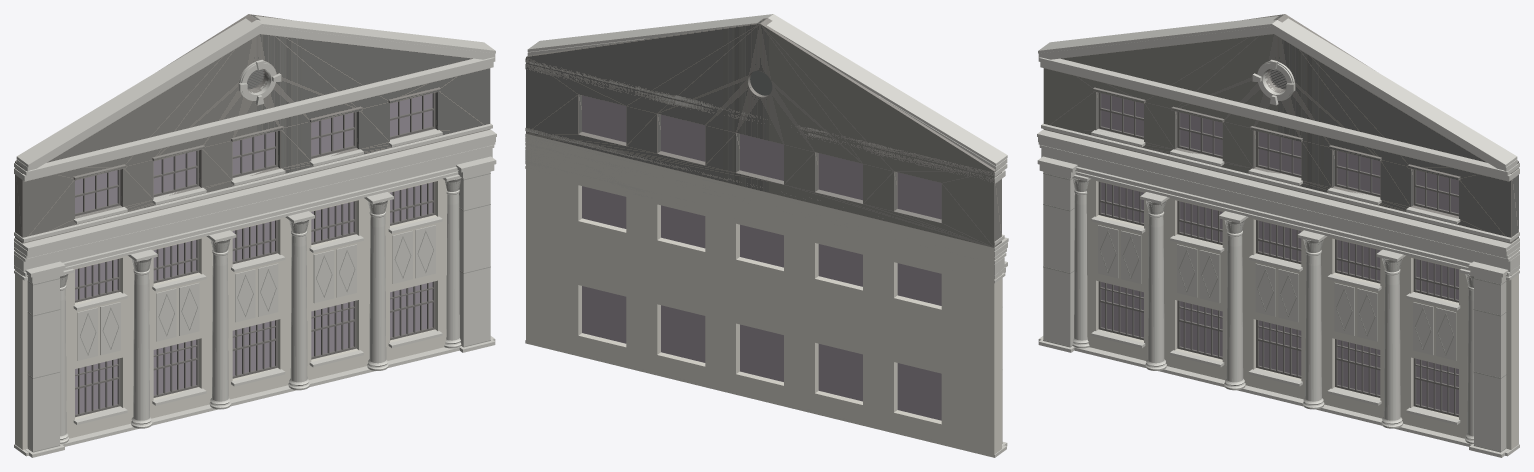
Rendered from huangpu-pure-heart-girls-school-gengwu-front-raw.glb.
The picture shows the model from 3 angles, left to right: view 1: azimuth 30°, elevation 25°; view 2: azimuth 150°, elevation 25°; view 3: azimuth 330°, elevation 25°; orthographic projection.
Parts seen in each view (by area): view 1: 清心女中庚午校舍（北大楼）中央山花柱列正面; view 2: 清心女中庚午校舍（北大楼）中央山花柱列正面; view 3: 清心女中庚午校舍（北大楼）中央山花柱列正面.
Part boxes in pixels (left/top/right/bottom): 清心女中庚午校舍（北大楼）中央山花柱列正面: left=14, top=14, right=496, bottom=457; 清心女中庚午校舍（北大楼）中央山花柱列正面: left=525, top=14, right=1008, bottom=457; 清心女中庚午校舍（北大楼）中央山花柱列正面: left=1037, top=14, right=1519, bottom=457.
Size of the model in its own units: 19.3 by 14.8 by 1.21.
Materials: 7 (1 with a texture image).
